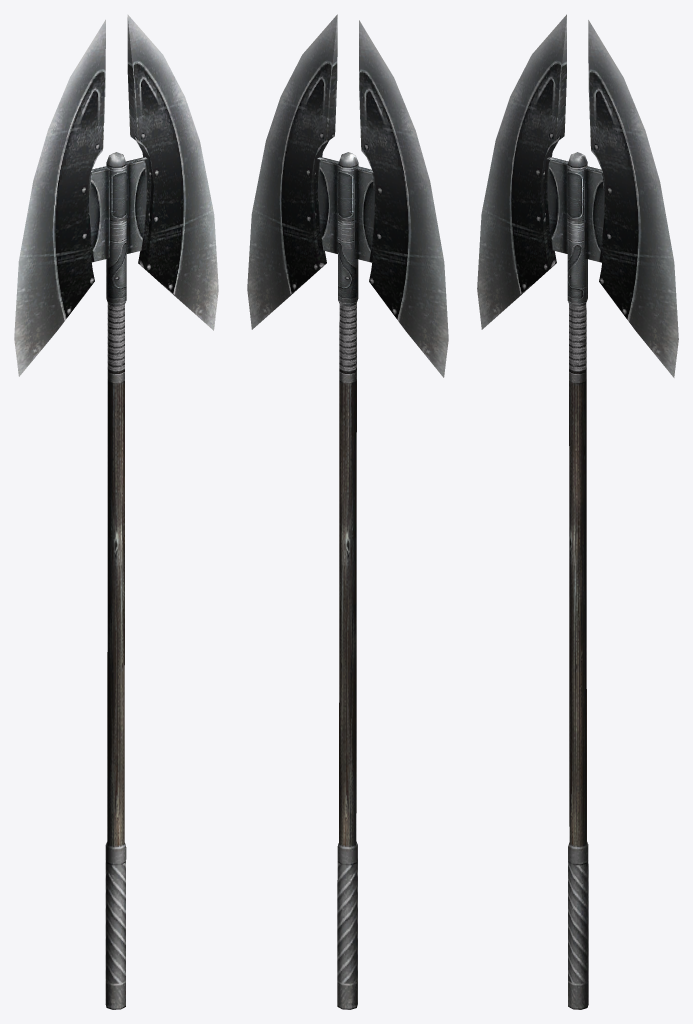
The model's file is rank_chang_2_W.glb.
3 views of the same model, side by side, from view 1: azimuth 30°, elevation 25°; view 2: azimuth 150°, elevation 25°; view 3: azimuth 330°, elevation 25° (orthographic).
Parts seen in each view (by area): view 1: weapon; view 2: weapon; view 3: weapon.
Boxes of the visible parts, x1,y1,x2,y2 form: weapon: [14, 14, 218, 1009]; weapon: [247, 14, 448, 1009]; weapon: [477, 14, 678, 1009].
Size of the model in its own units: 4.84 by 22.52 by 0.46.
Materials: 1 (1 with a texture image).
